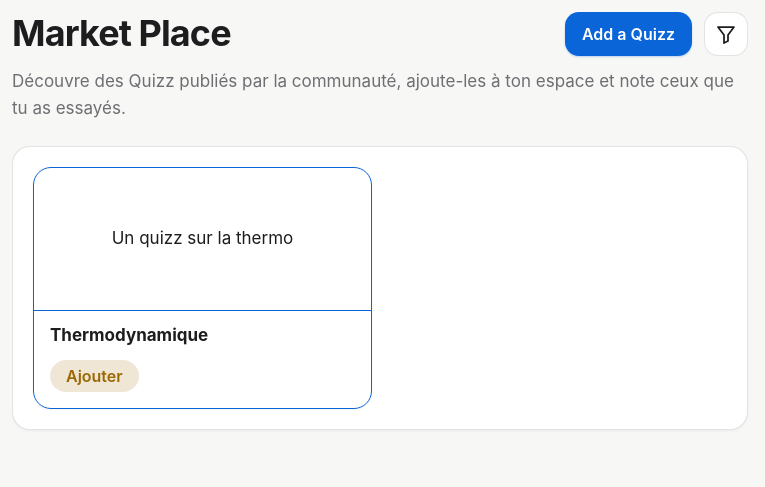
MarketplacePage › shows an error when subscribing fails
Step 1. Click the button with aria-label "Ajouter à mon espace" → click(94, 376), box [50,360,139,392]
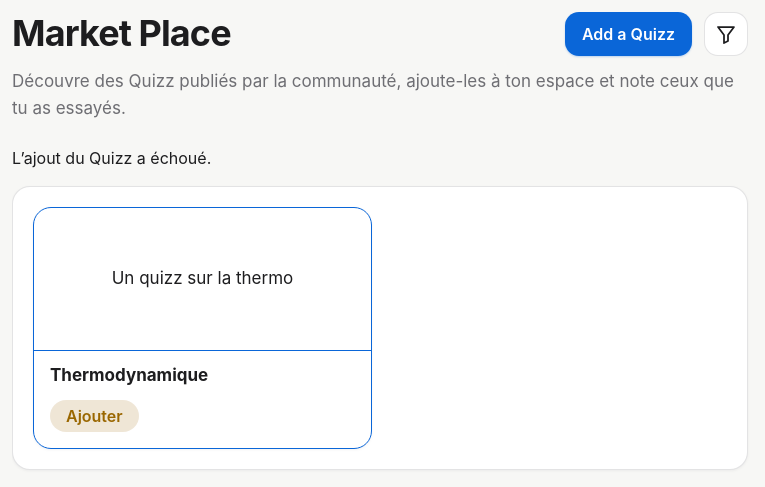
Expected: the text "L’ajout du Quizz a échoué." is shown, [12,148,211,168]
